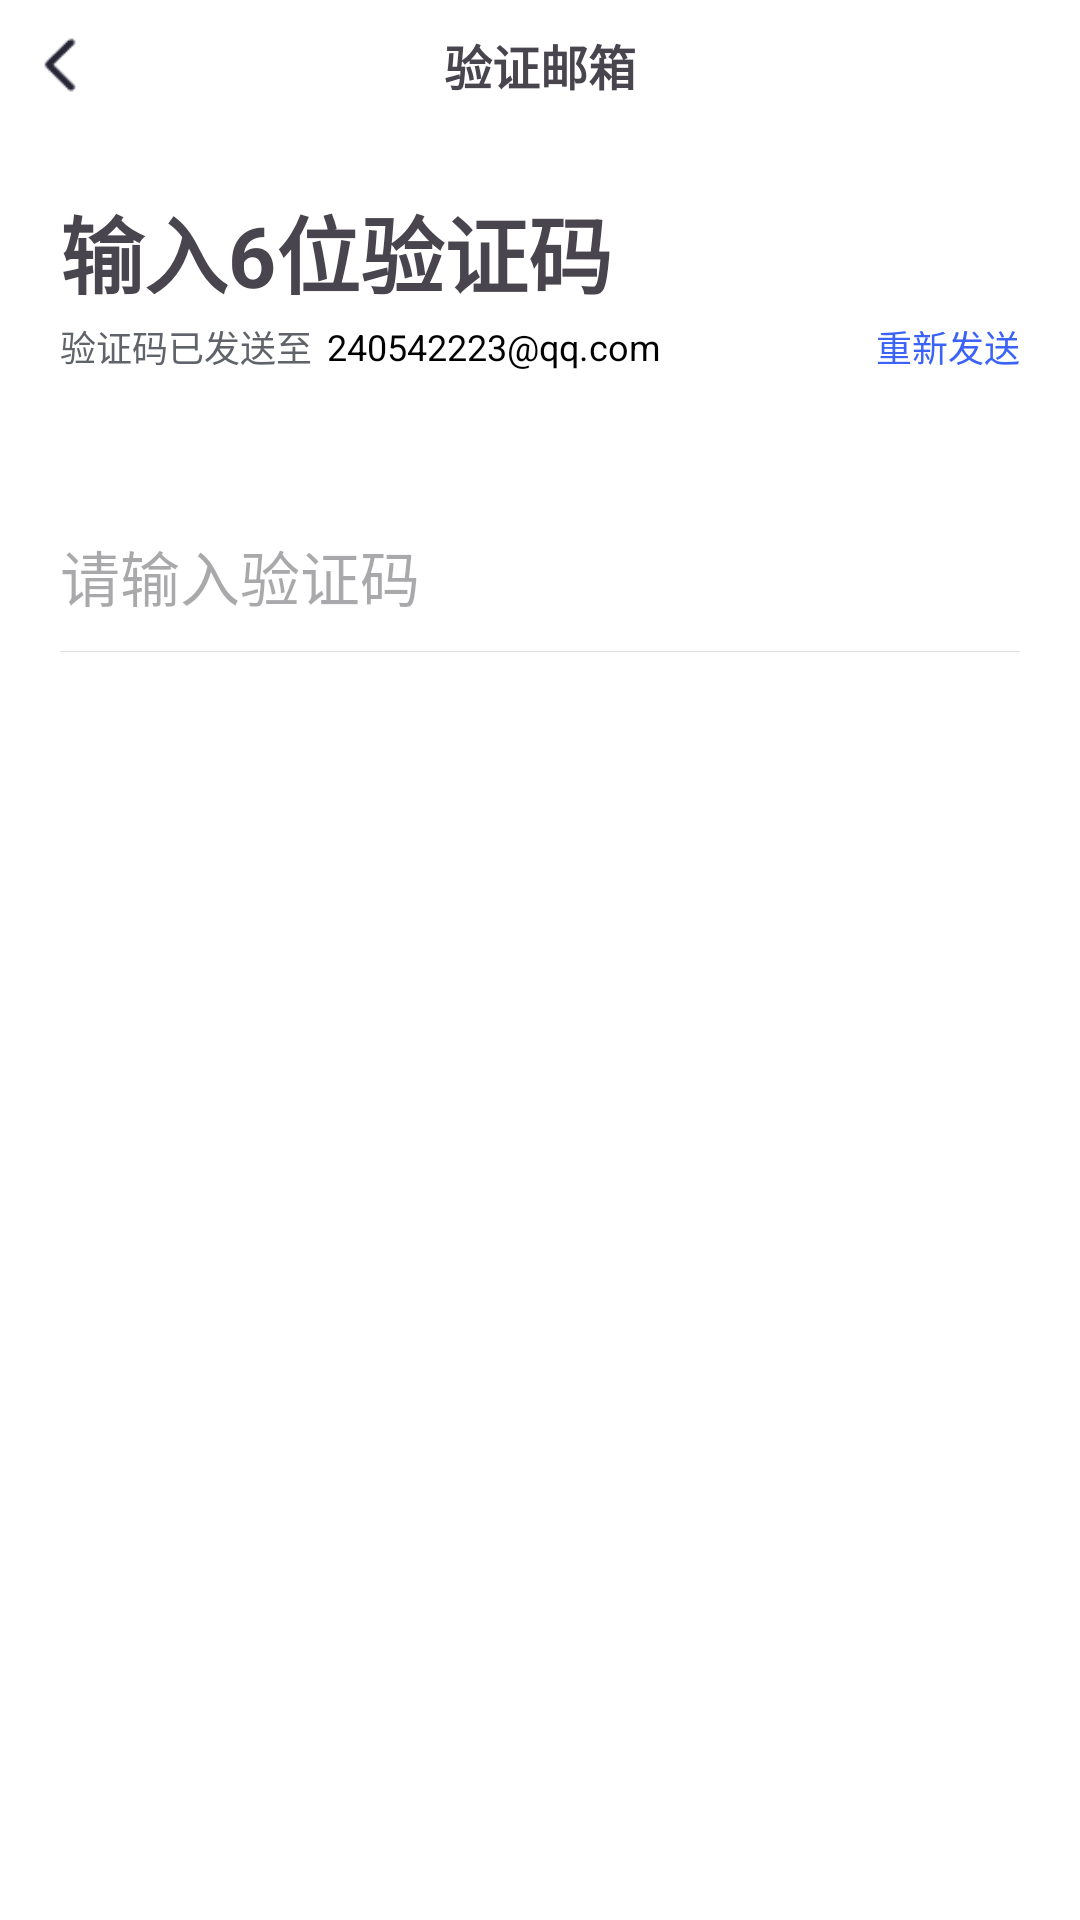

Where to tap for icons on this 1080x1920 app screen, as (x,y):
back arrow: (60,65)
